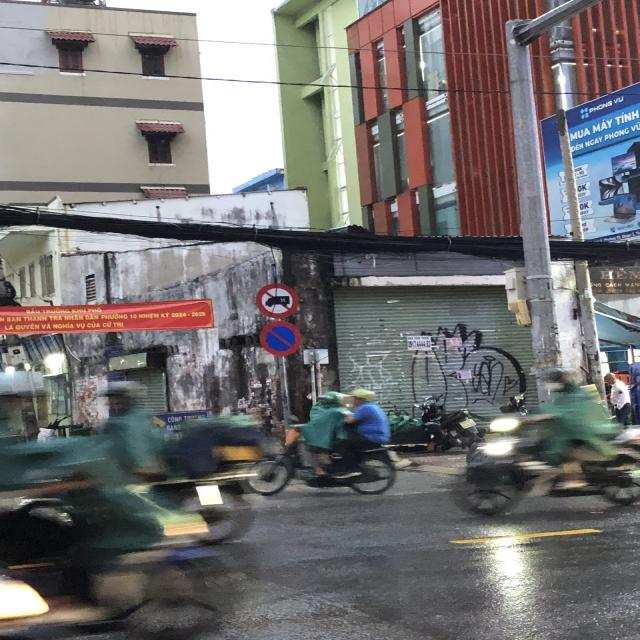Bien bao cam do xe: (258, 319, 306, 359)
Bien bao cam xe oto tai: (254, 281, 304, 320)
